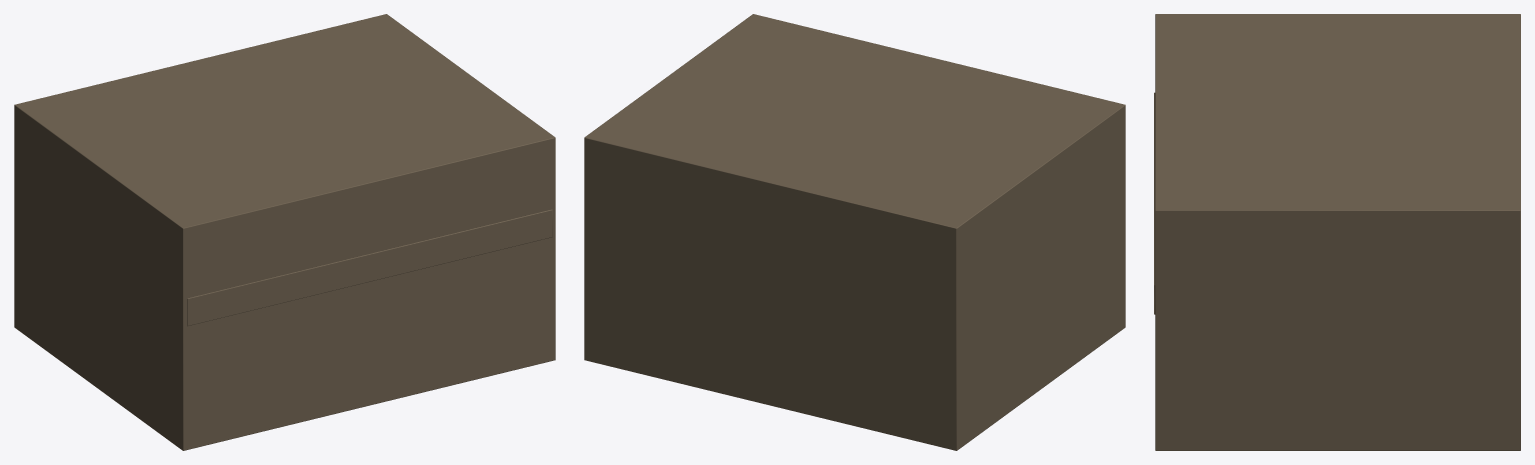
3 views of the same model, side by side, from view 1: azimuth 30°, elevation 25°; view 2: azimuth 150°, elevation 25°; view 3: azimuth 270°, elevation 25° (orthographic). The views are drawn at different scales.
Parts seen in each view (by area): view 1: SM_F_Box_C__Body; view 2: SM_F_Box_C__Body; view 3: SM_F_Box_C__Body.
Part boxes in pixels (left/top/right/bottom): SM_F_Box_C__Body: left=14, top=14, right=555, bottom=450; SM_F_Box_C__Body: left=584, top=14, right=1125, bottom=450; SM_F_Box_C__Body: left=1154, top=14, right=1520, bottom=450.
Size of the model in its own units: 0.7 by 0.4 by 0.552.
